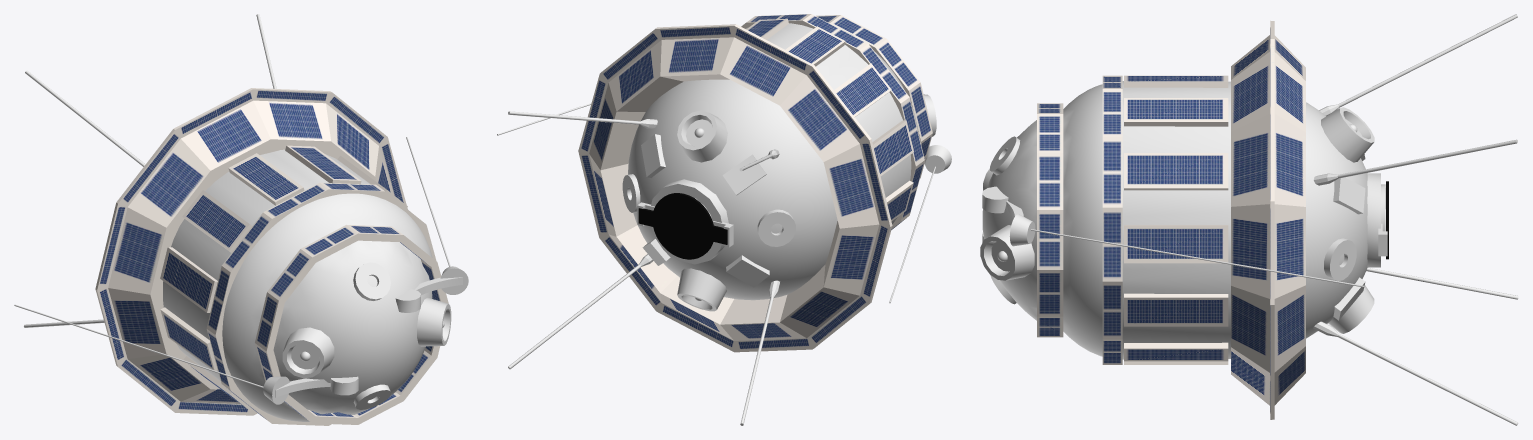
Rendered from probe.obj.
The picture shows the model from 3 angles, left to right: view 1: azimuth 30°, elevation 25°; view 2: azimuth 150°, elevation 25°; view 3: azimuth 270°, elevation 25°; orthographic projection. The views are drawn at different scales.
Visible parts, largest first — view 1: group0, group1, group5, group20, group10, group29, group21, group11, group9, group28, group7, group12 (+3 smaller); view 2: group1, group0, group20, group5, group25, group3, group26, group27, group10, group19, group11, group9 (+6 smaller); view 3: group0, group1, group5, group20, group6, group18, group17, group8, group28, group7, group16, group3 (+7 smaller).
Part boxes in pixels (x1,y1,x2,y2): group0: (163, 149, 432, 421); group1: (95, 88, 407, 415); group5: (255, 224, 448, 424); group20: (206, 182, 436, 425); group10: (182, 190, 251, 252); group29: (14, 304, 358, 404); group21: (282, 327, 334, 378); group11: (160, 247, 217, 312); group9: (228, 153, 304, 205); group28: (395, 137, 468, 312); group7: (417, 297, 451, 346); group12: (160, 307, 217, 370); group1: (578, 24, 892, 352); group0: (622, 23, 918, 300); group20: (741, 14, 924, 229); group5: (816, 15, 932, 178); group25: (637, 179, 733, 264); group3: (677, 110, 727, 162); group26: (683, 194, 727, 259); group27: (638, 193, 683, 258); group10: (834, 63, 891, 116); group19: (677, 268, 726, 311); group11: (872, 120, 913, 175); group9: (785, 26, 845, 66); group0: (982, 81, 1367, 359); group1: (1231, 20, 1305, 419); group5: (1037, 103, 1063, 337); group20: (1102, 75, 1122, 364); group6: (1124, 153, 1228, 190); group18: (1124, 225, 1228, 263); group17: (1124, 293, 1228, 326); group8: (1124, 98, 1228, 126); group28: (982, 186, 1364, 287); group7: (980, 225, 1034, 280); group16: (1124, 342, 1228, 361); group3: (1321, 107, 1374, 162).
Size of the model in its own units: 1.68 by 1.33 by 1.79.
Materials: 4 (2 with a texture image).
